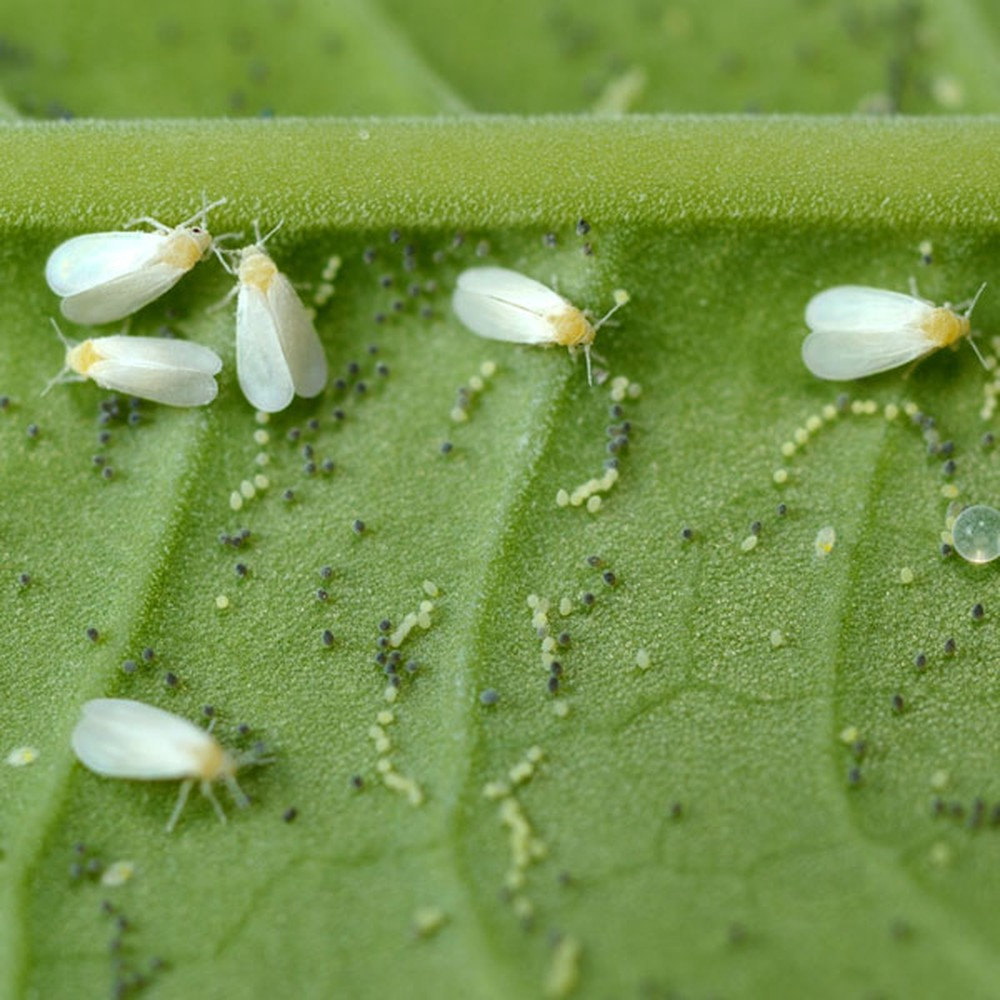Mosca Blanca: (422, 238, 647, 411), (783, 255, 997, 412), (59, 691, 284, 826), (218, 226, 362, 434), (29, 198, 225, 329), (38, 321, 235, 427)
